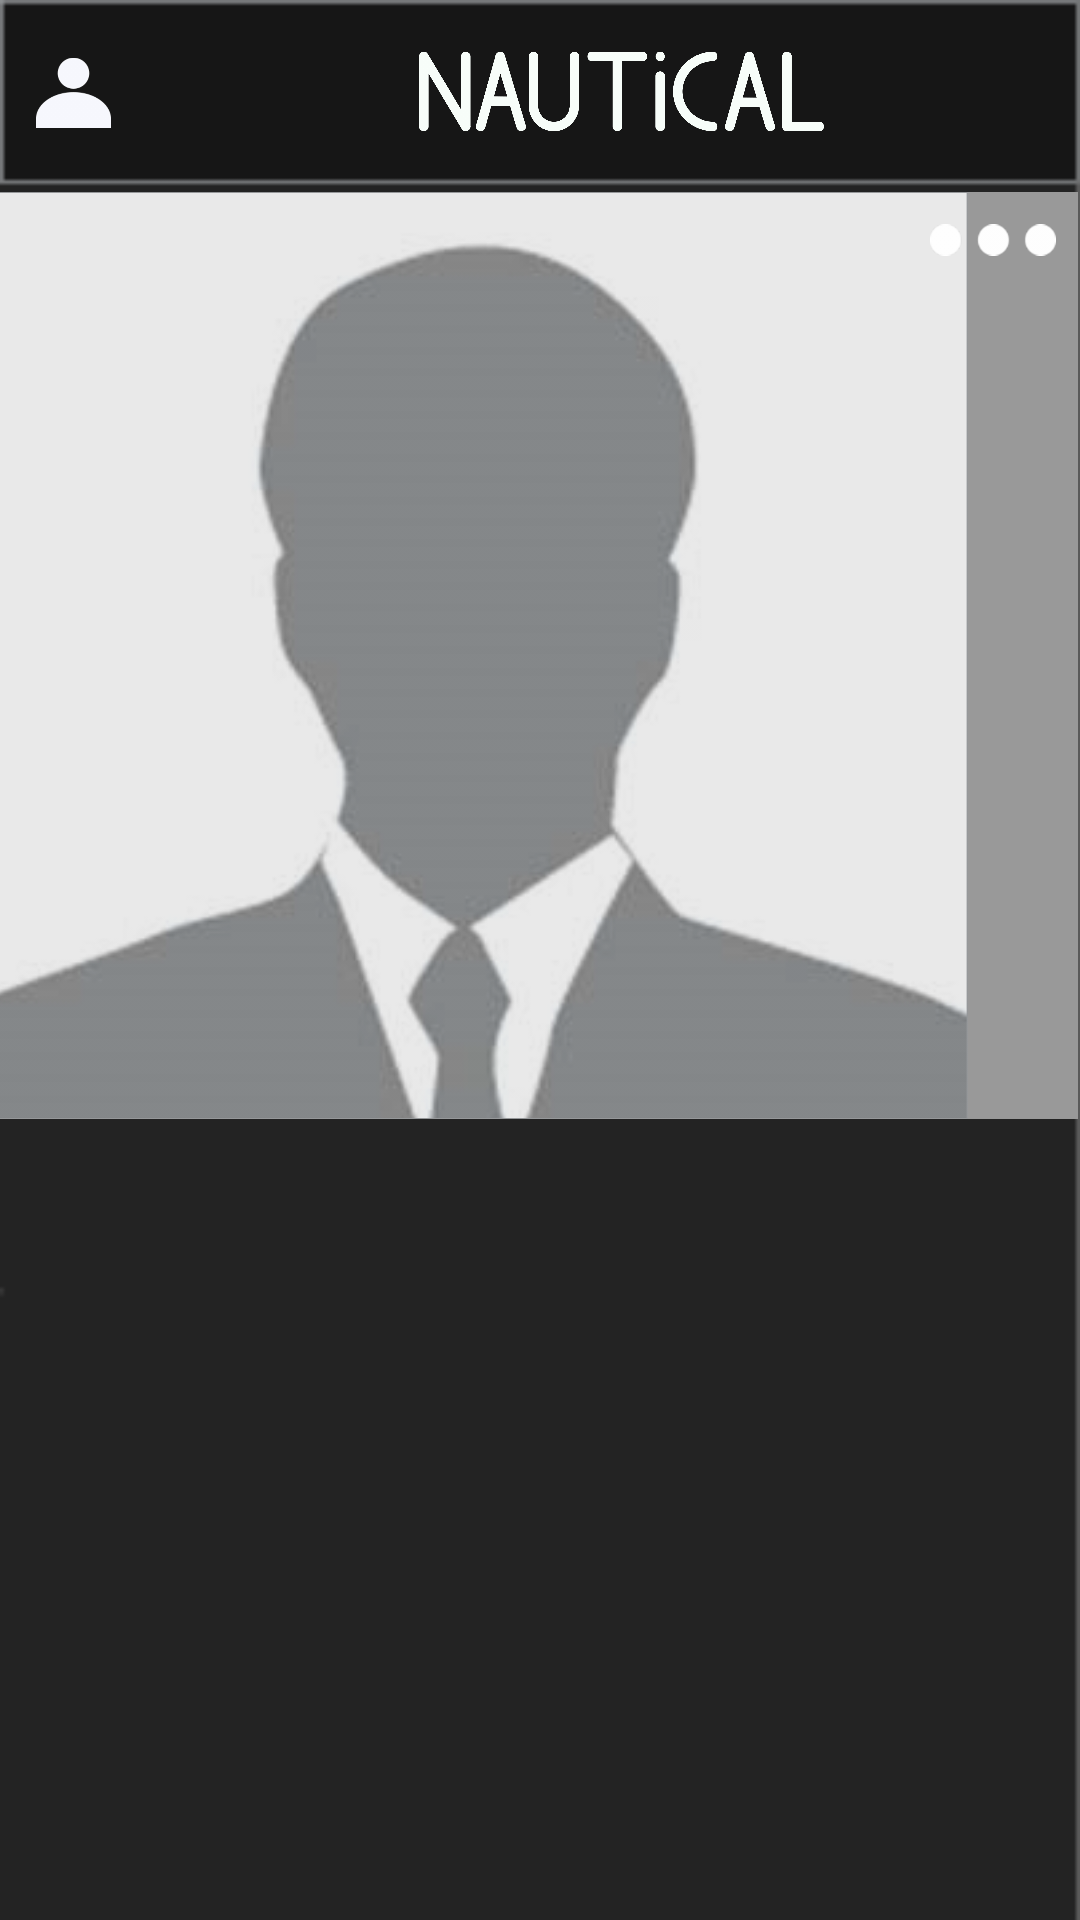

Where icons sit on this 1080px x 1920px app screen, as (x1, y1, x2, y2):
dots: (930, 213, 1056, 267)
profile: (36, 58, 111, 128)
